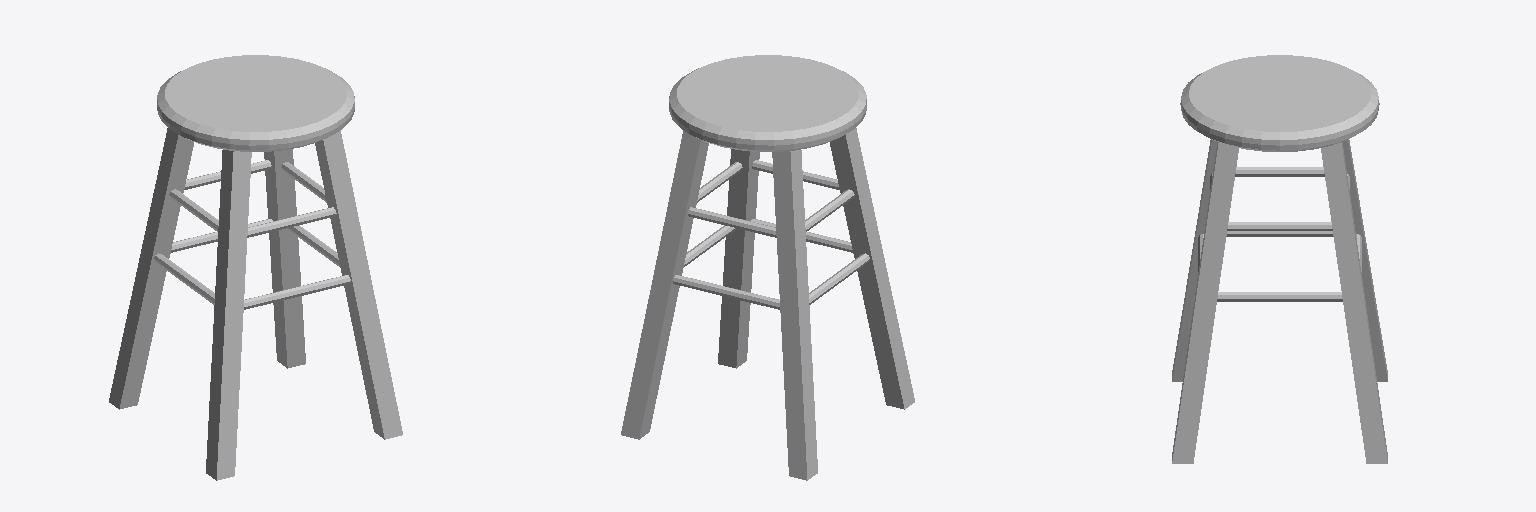
File: barStool.obj
3 views of the same model, side by side, from view 1: azimuth 30°, elevation 25°; view 2: azimuth 150°, elevation 25°; view 3: azimuth 270°, elevation 25° (orthographic).
Visible parts, largest first — view 1: trn_BarStool; view 2: trn_BarStool; view 3: trn_BarStool.
Part boxes in pixels (x1,y1,x2,y2): trn_BarStool: (109, 55, 402, 480); trn_BarStool: (621, 55, 914, 480); trn_BarStool: (1172, 55, 1387, 463).
Size of the model in its own units: 0.4976 by 0.8271 by 0.4976.